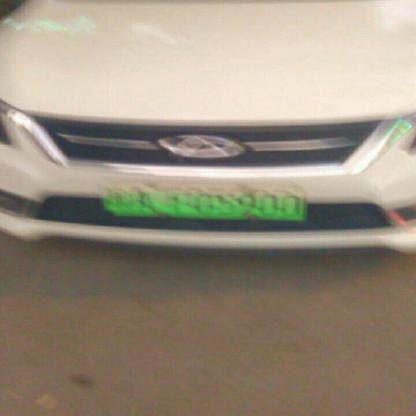lp: (107, 187, 305, 219)
